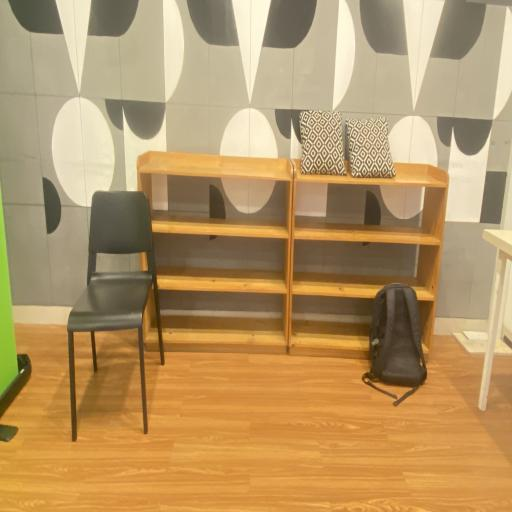bantal: (345, 114, 395, 180), (300, 110, 346, 177)
kursi: (67, 190, 166, 444)
lemari: (288, 154, 454, 361), (137, 148, 293, 366)
meja: (476, 226, 512, 420)
tas ransel: (366, 279, 431, 407)
